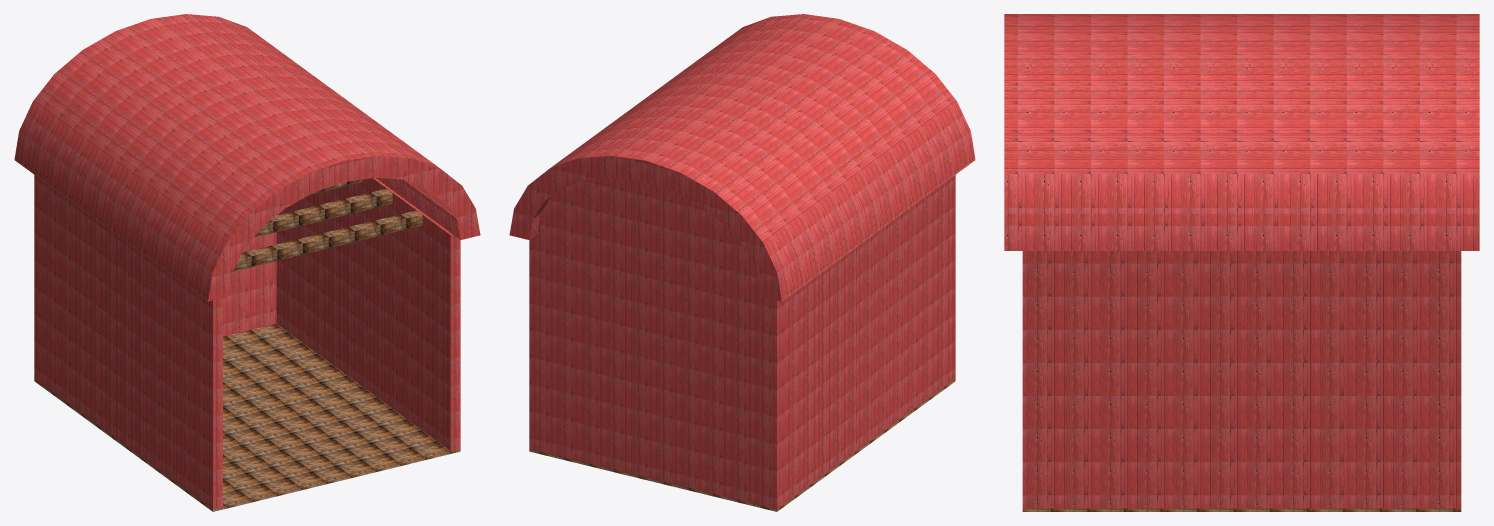
The model's file is Gramer.obj.
3 views of the same model, side by side, from view 1: azimuth 30°, elevation 25°; view 2: azimuth 150°, elevation 25°; view 3: azimuth 270°, elevation 25° (orthographic). The views are drawn at different scales.
Visible parts, largest first — view 1: Gramer; view 2: Gramer; view 3: Gramer.
Boxes of the visible parts, x1,y1,x2,y2 form: Gramer: (14,14,480,511); Gramer: (509,14,975,511); Gramer: (1004,14,1479,511).
Bounding box in the file's own units: 10.57 × 12.1 × 13.
Materials: 2 (2 with a texture image).
